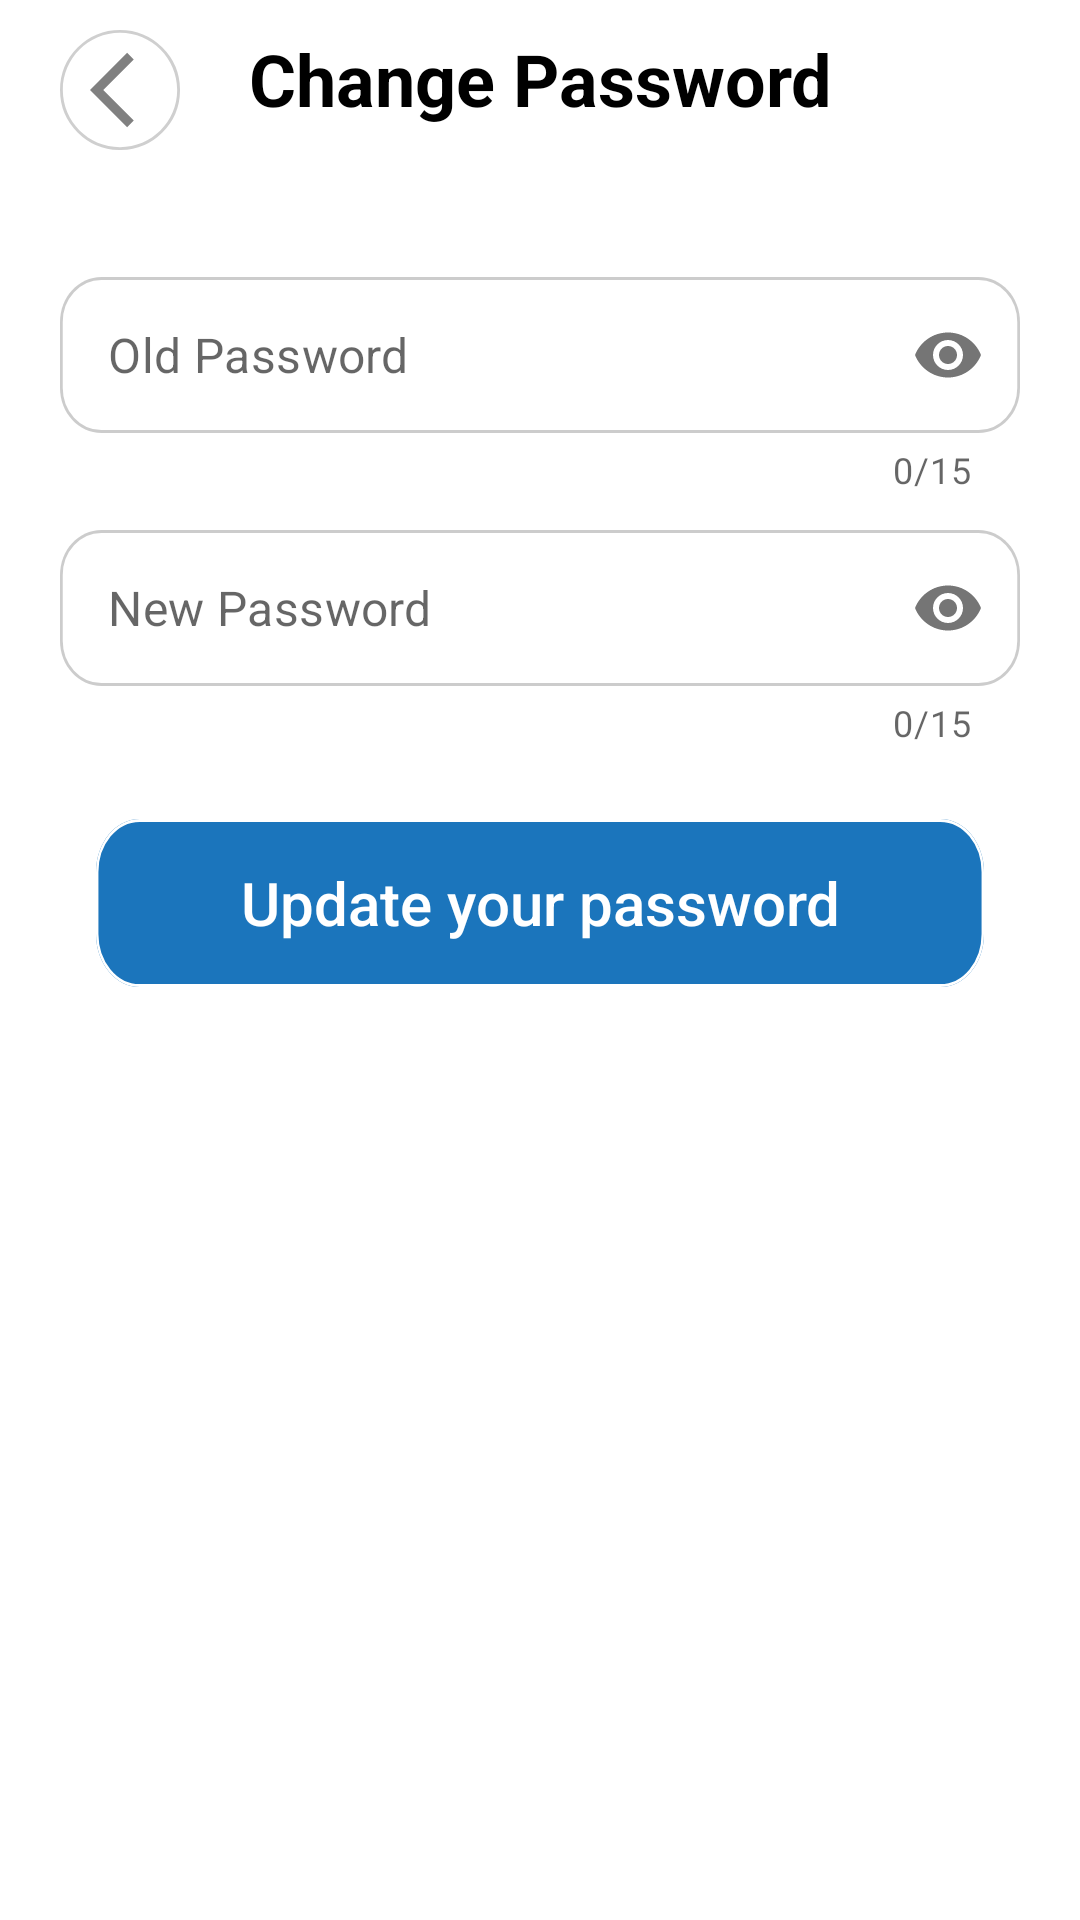

Icons on this 1080x1920 Android screen, each with its box as [x1, y1, x2, y2]:
back: [60, 30, 180, 150]
